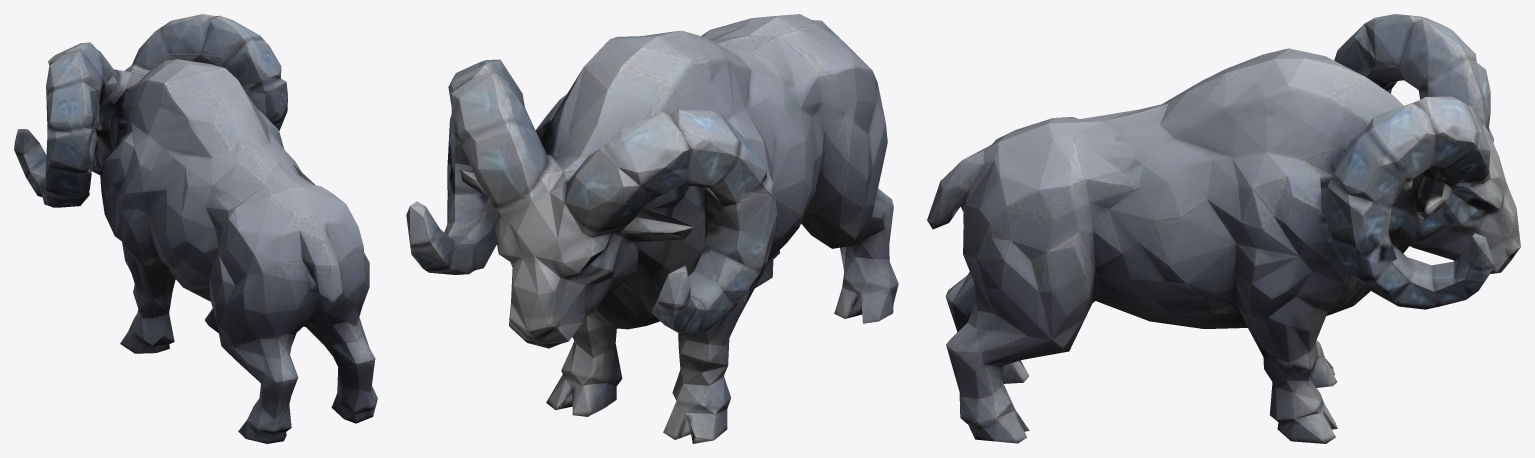
Rendered from foe_runeBeetle.glb.
3 views of the same model, side by side, from view 1: azimuth 30°, elevation 25°; view 2: azimuth 150°, elevation 25°; view 3: azimuth 270°, elevation 25° (orthographic). The views are drawn at different scales.
Parts seen in each view (by area): view 1: tripo_node_afc5dbf0-2520-429e-864d-4733b46e3ace.001; view 2: tripo_node_afc5dbf0-2520-429e-864d-4733b46e3ace.001; view 3: tripo_node_afc5dbf0-2520-429e-864d-4733b46e3ace.001.
Boxes of the visible parts, box(x1,y1,x2,y2) form: tripo_node_afc5dbf0-2520-429e-864d-4733b46e3ace.001: box(14, 14, 377, 443); tripo_node_afc5dbf0-2520-429e-864d-4733b46e3ace.001: box(406, 14, 898, 443); tripo_node_afc5dbf0-2520-429e-864d-4733b46e3ace.001: box(927, 14, 1520, 443).
Bounding box in the file's own units: 0.5899 × 0.6478 × 0.9991.
Materials: 1 (1 with a texture image).
